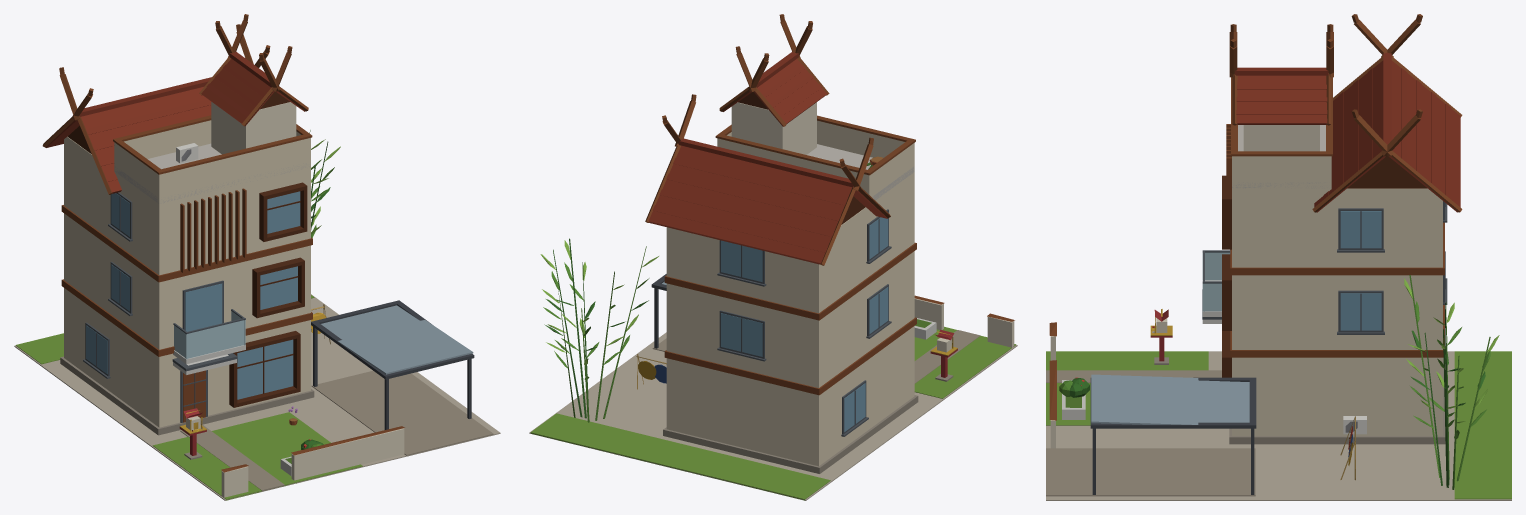
The model's file is house12_2.glb.
The picture shows the model from 3 angles, left to right: view 1: azimuth 30°, elevation 25°; view 2: azimuth 150°, elevation 25°; view 3: azimuth 270°, elevation 25°; orthographic projection. The views are drawn at different scales.
Parts seen in each view (by area): view 1: body; view 2: body; view 3: body.
Part boxes in pixels (x1=…): body: x1=14, y1=14, x2=500, y2=500; body: x1=529, y1=14, x2=1017, y2=500; body: x1=1046, y1=14, x2=1511, y2=500.
Size of the model in its own units: 12.87 by 15 by 15.9.
